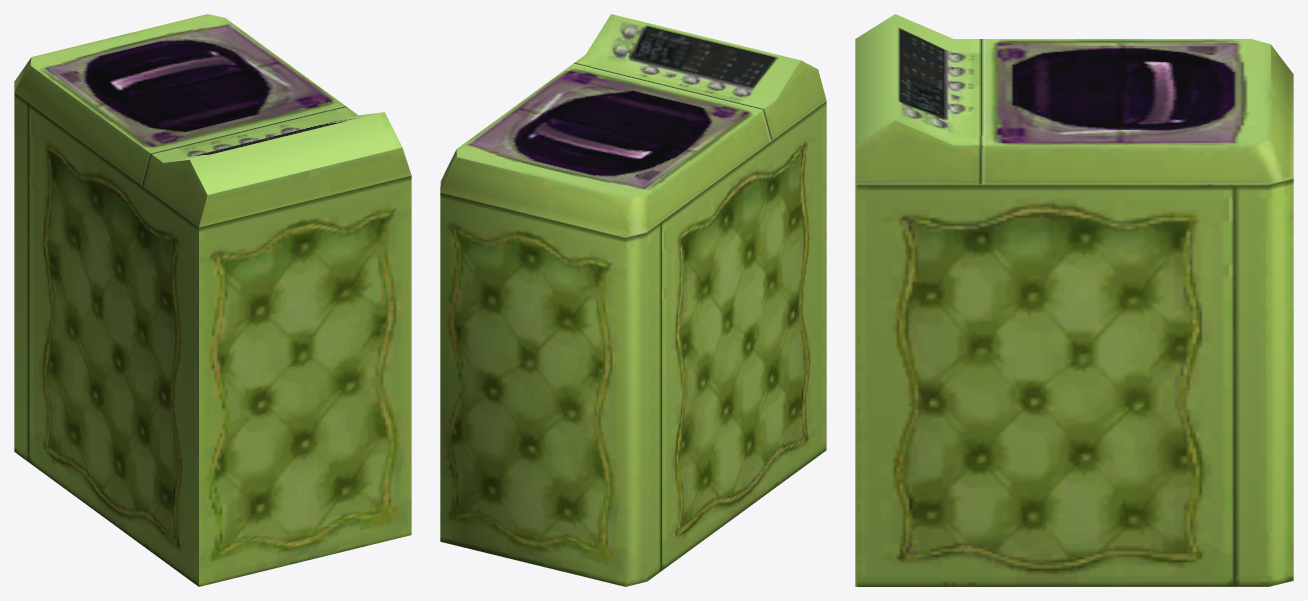
Rendered from furni_0200026_02.FBX.
3 views of the same model, side by side, from view 1: azimuth 30°, elevation 25°; view 2: azimuth 150°, elevation 25°; view 3: azimuth 270°, elevation 25° (orthographic). The views are drawn at different scales.
Parts seen in each view (by area): view 1: furni_0200026_02; view 2: furni_0200026_02; view 3: furni_0200026_02.
Part boxes in pixels (x1,y1,x2,y2): furni_0200026_02: (14,14,411,586); furni_0200026_02: (440,14,826,586); furni_0200026_02: (855,14,1293,586).
Size of the model in its own units: 45.7 by 84.56 by 72.8.
